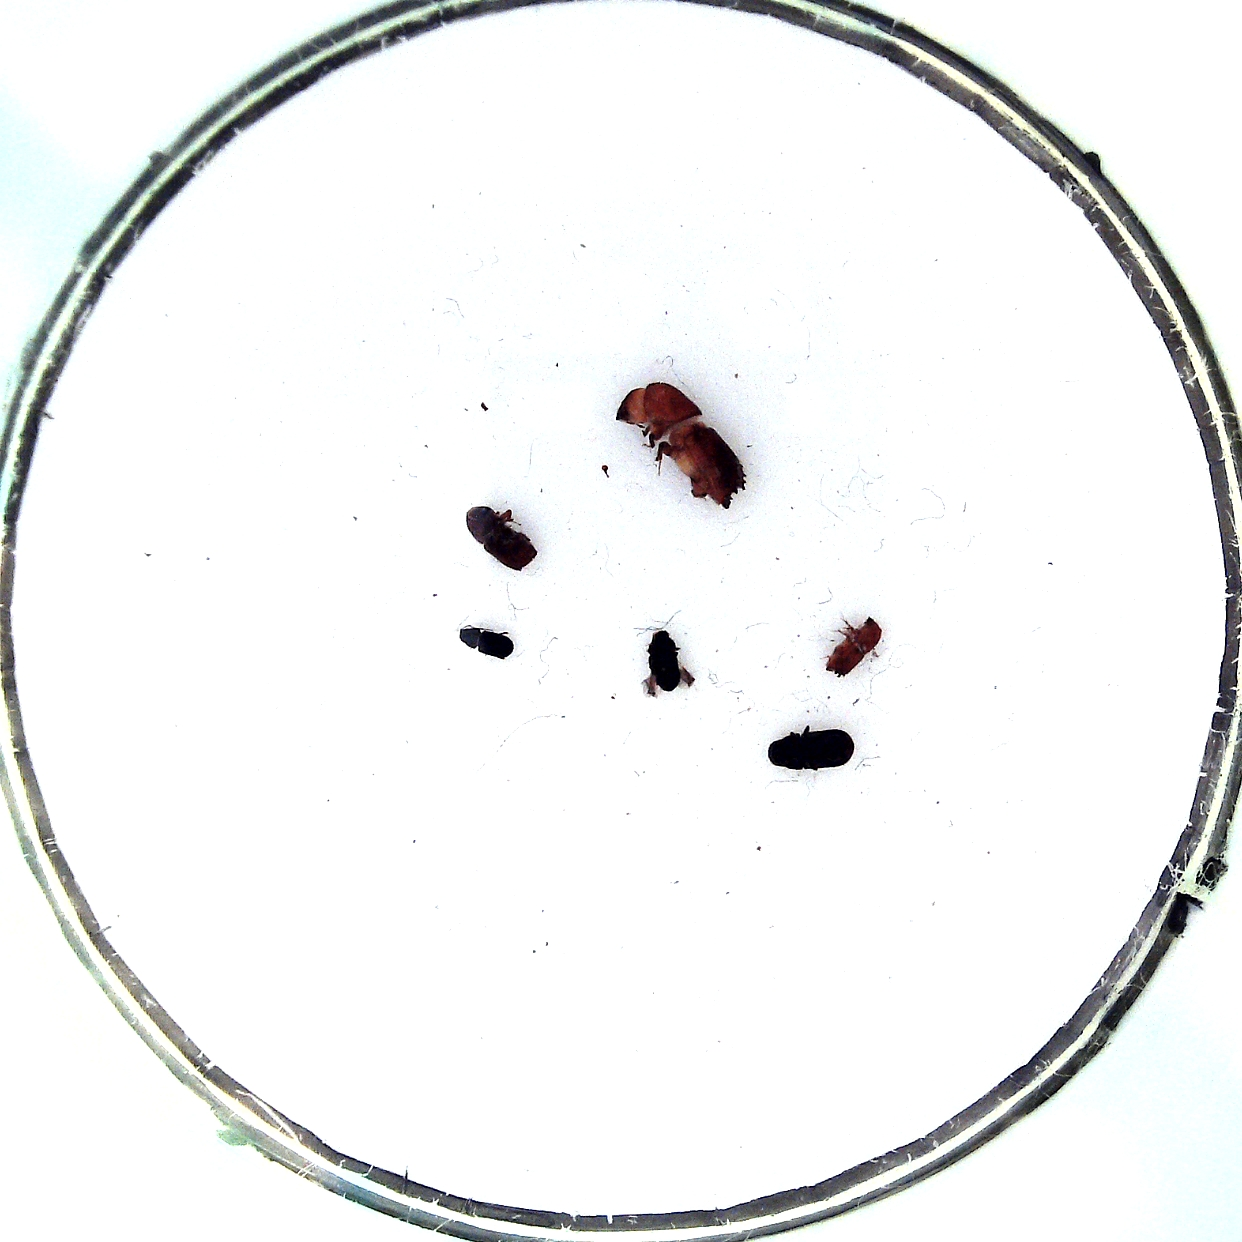Boerner: (615, 381, 747, 510)
acuminatus: (646, 630, 682, 693), (459, 627, 514, 660)
armandi: (767, 729, 854, 770)
coleoptera: (825, 616, 881, 678)
linnaeus: (466, 506, 538, 572)
